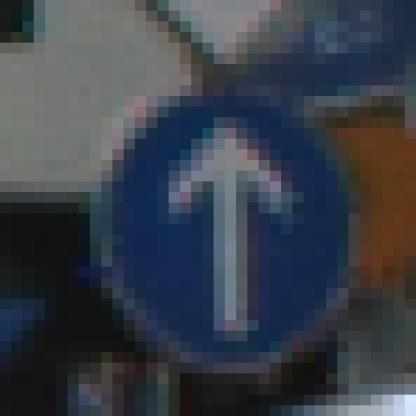AheadOnly: (69, 54, 350, 353)
